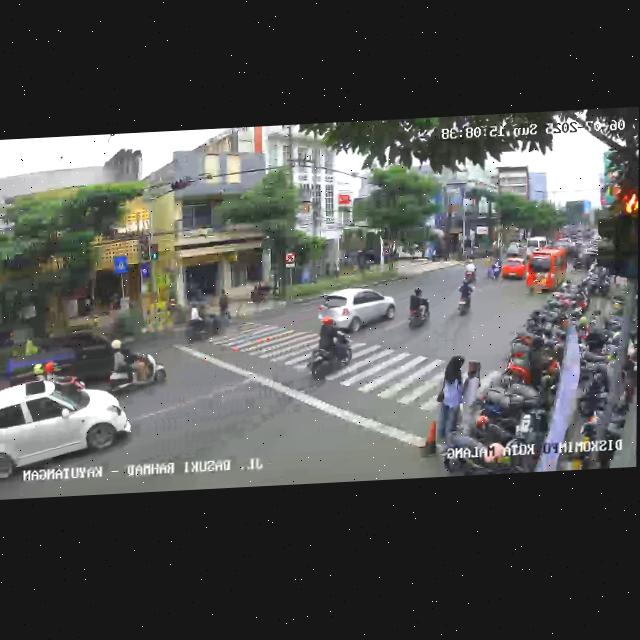car: (0, 379, 131, 484), (0, 324, 136, 392), (317, 286, 398, 337), (526, 247, 570, 296), (502, 257, 526, 283), (505, 242, 525, 257)
motorcycle: (109, 338, 167, 396), (305, 317, 354, 385), (185, 296, 224, 344), (36, 358, 86, 389), (405, 286, 430, 334), (454, 278, 473, 320), (462, 258, 477, 281), (488, 256, 500, 282)
person: (440, 353, 466, 436), (460, 359, 482, 435), (219, 289, 232, 325)
